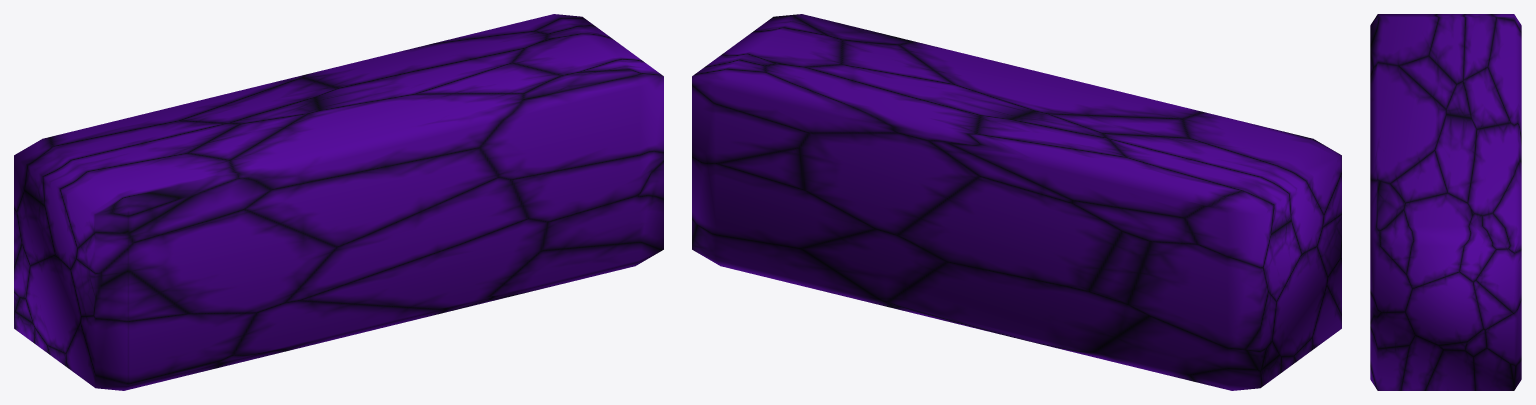
Rendered from Brick_04_2hit.obj.
3 renders of one model, left to right at view 1: azimuth 30°, elevation 25°; view 2: azimuth 150°, elevation 25°; view 3: azimuth 270°, elevation 25°, orthographic. The views are drawn at different scales.
Parts seen in each view (by area): view 1: Cube_Paddle; view 2: Cube_Paddle; view 3: Cube_Paddle.
Boxes of the visible parts, left/top/right/bottom form: Cube_Paddle: left=14, top=14, right=663, bottom=390; Cube_Paddle: left=692, top=14, right=1341, bottom=390; Cube_Paddle: left=1370, top=14, right=1521, bottom=390.
Size of the model in its own units: 7.25 by 2.34 by 2.
1 material, 1 textured.
